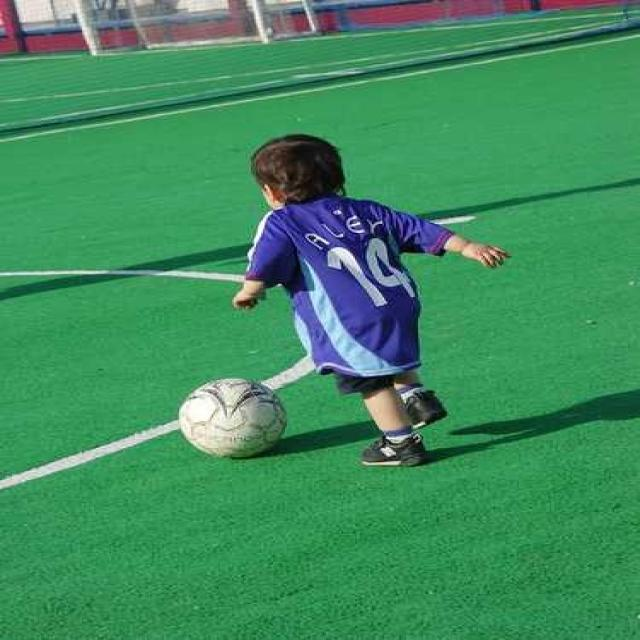ball: (181, 378, 287, 458)
